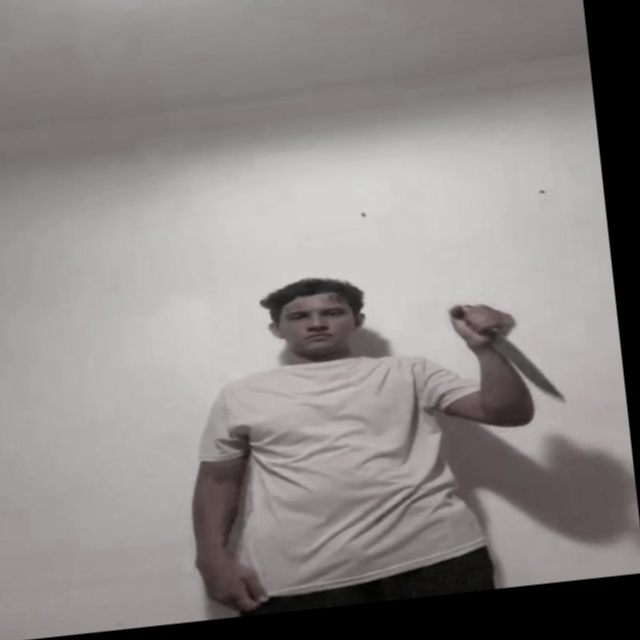Sharp-Object: (492, 328, 559, 404)
